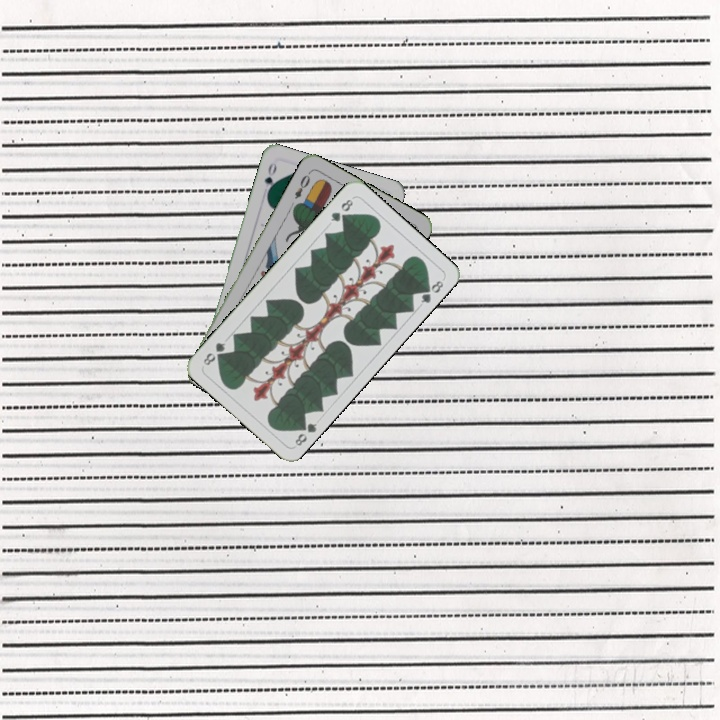EO: (291, 168, 313, 202)
G8: (291, 417, 320, 449), (326, 195, 356, 224)
GO: (260, 158, 279, 199)
